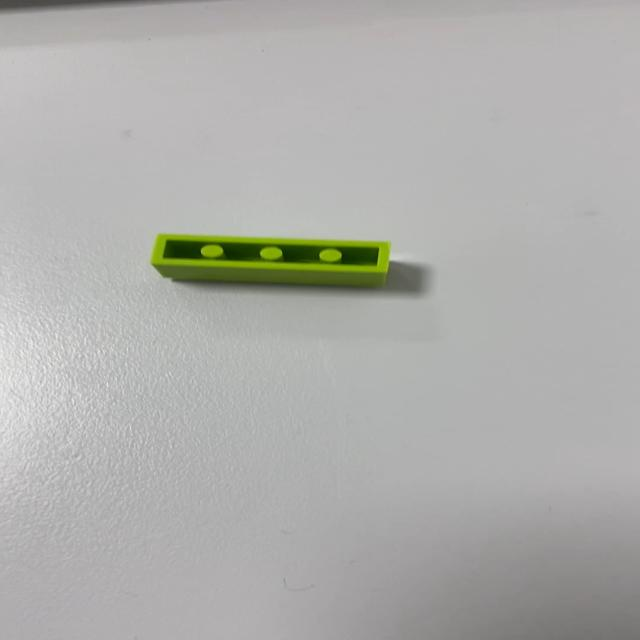C4x1x1: (148, 232, 392, 288)
